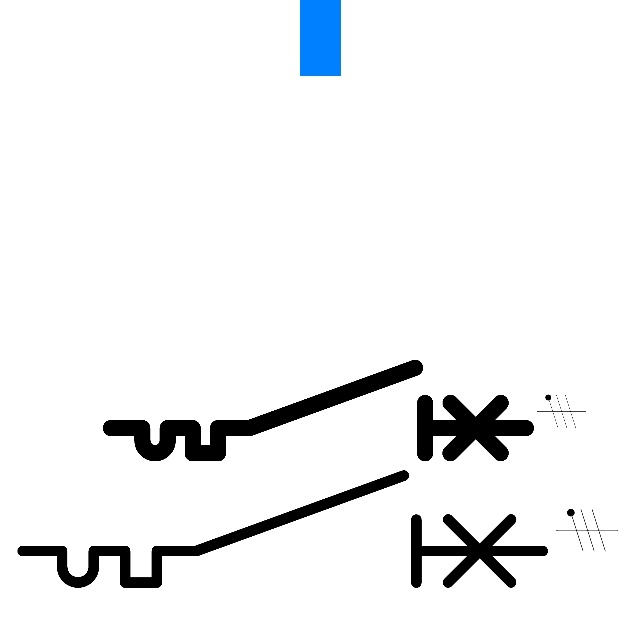interruptor_termomagnetico: (9, 462, 556, 596), (100, 357, 536, 464)
